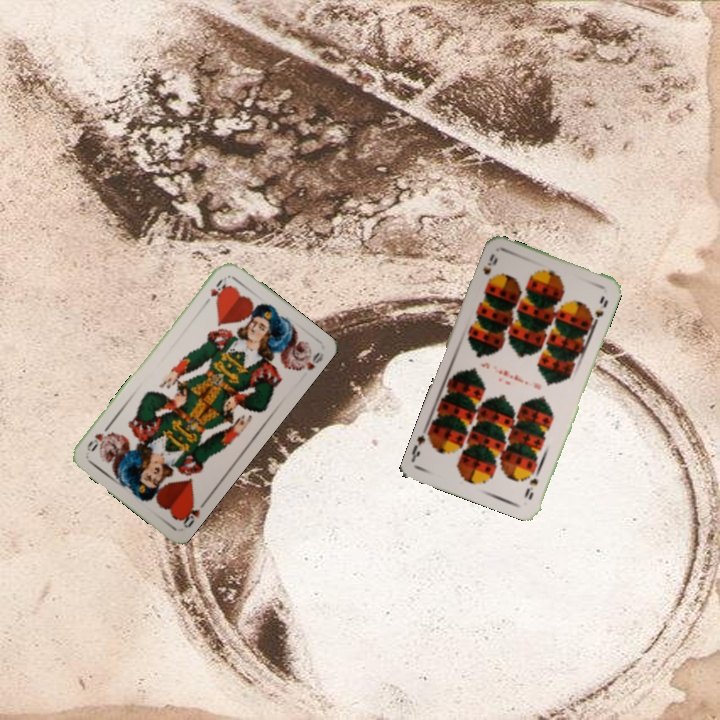HO: (175, 495, 209, 531), (200, 275, 229, 308)
S9: (478, 250, 500, 277), (521, 474, 540, 502)
